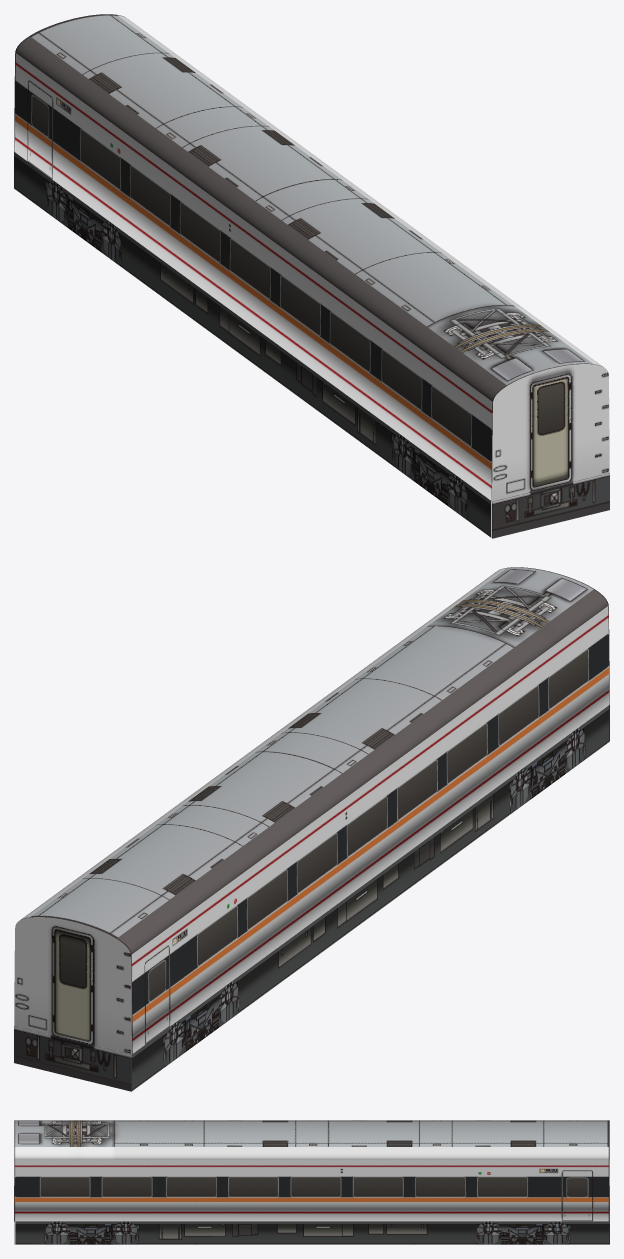
File: car6.glb
3 renders of one model, top to bottom at view 1: azimuth 30°, elevation 25°; view 2: azimuth 150°, elevation 25°; view 3: azimuth 270°, elevation 25°, orthographic. The views are drawn at different scales.
Parts seen in each view (by area): view 1: tobu-100-car2; view 2: tobu-100-car2; view 3: tobu-100-car2.
Part boxes in pixels (x1,y1,x2,y2): tobu-100-car2: (14, 14, 609, 538); tobu-100-car2: (14, 567, 609, 1091); tobu-100-car2: (14, 1120, 609, 1244).
Size of the model in its own units: 2.87 by 3.63 by 20.23.
9 materials, 8 textured.
